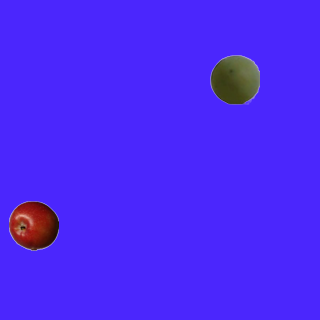Apple Braeburn: (8, 200, 58, 250)
Grape White 4: (209, 54, 259, 104)
